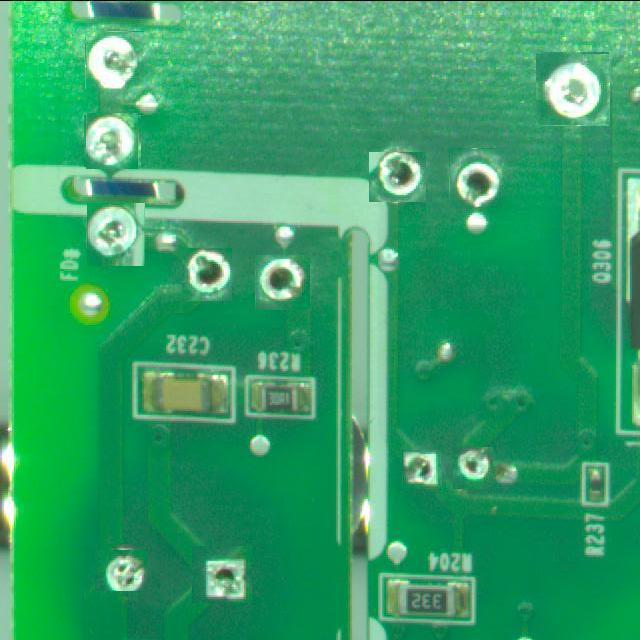lack_of_part: (536, 52, 610, 126), (85, 204, 146, 265), (85, 31, 144, 89), (192, 546, 252, 603), (449, 148, 502, 207), (255, 255, 310, 310), (85, 114, 140, 168), (369, 152, 426, 202), (182, 248, 232, 301), (97, 547, 144, 594), (452, 446, 493, 489), (403, 450, 441, 489)
